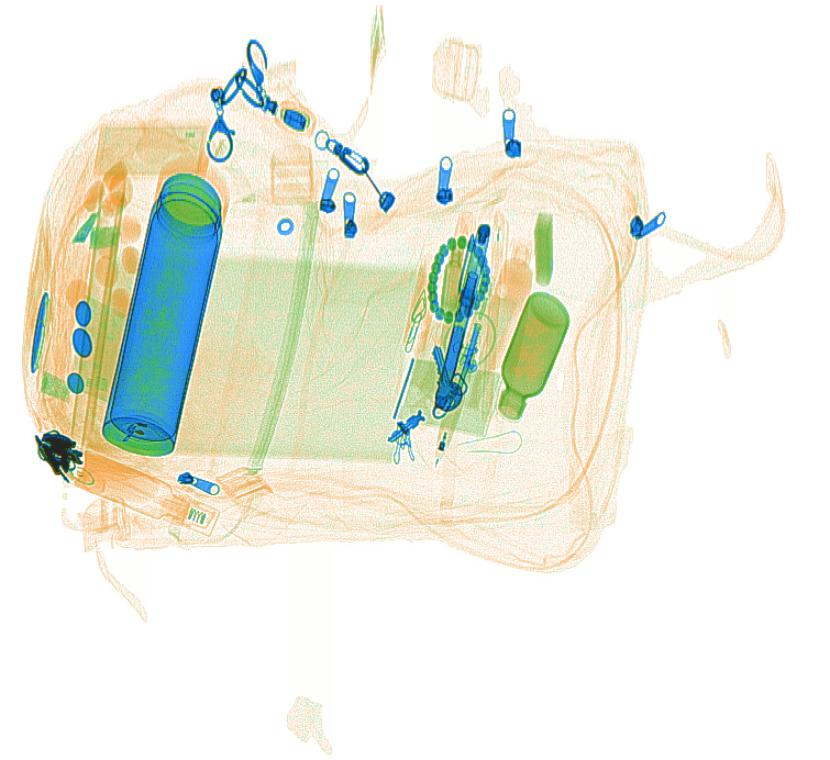plasticBottleWithaNozzle: (73, 447, 225, 538)
